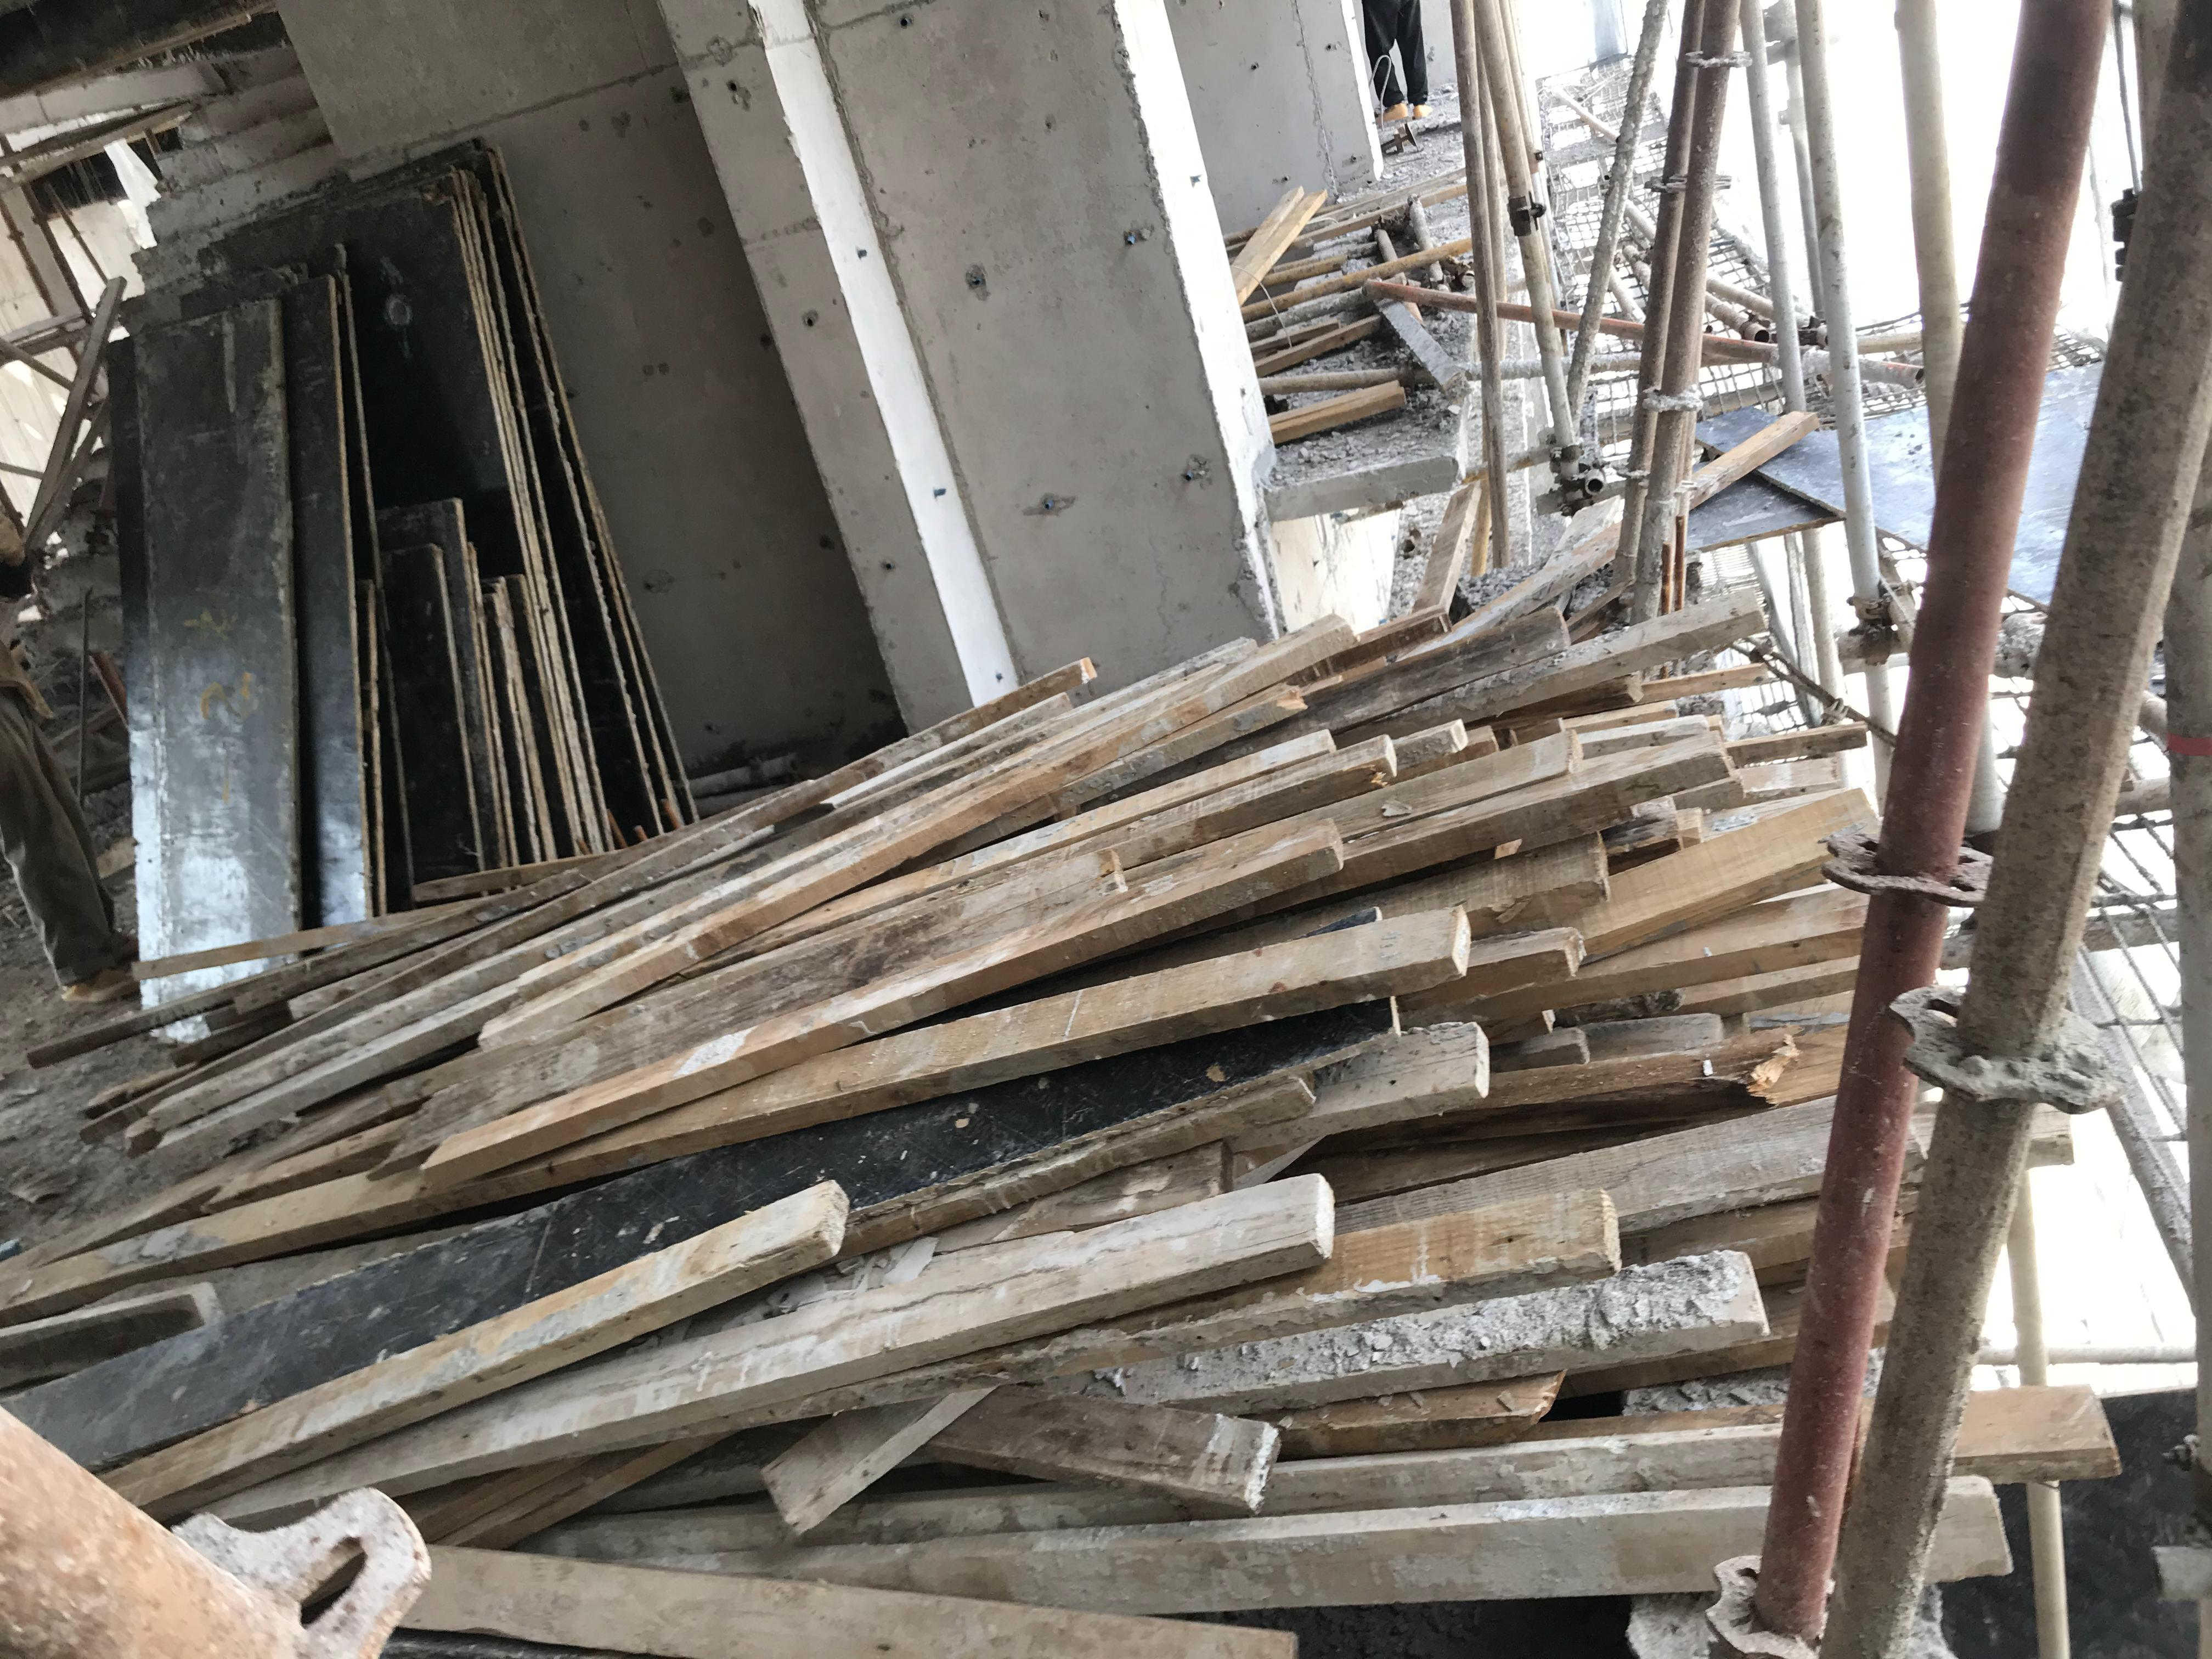board: (125, 138, 697, 1012)
wood: (12, 584, 2121, 1659)
